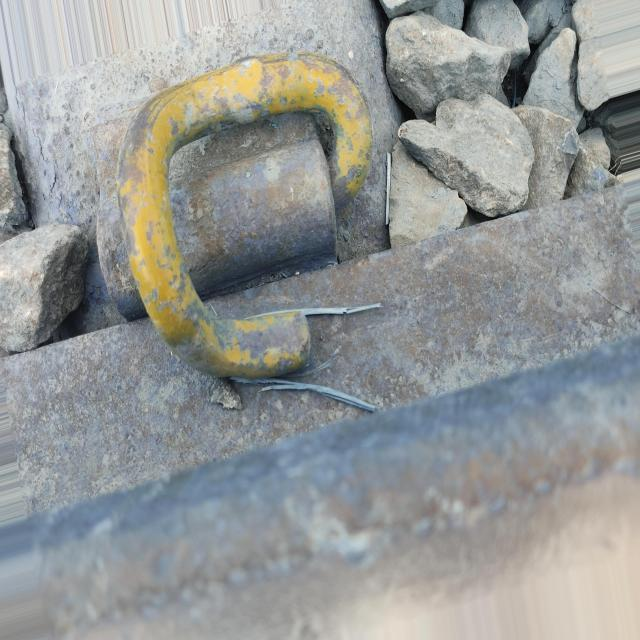Good Fasteners: (75, 25, 391, 417)
